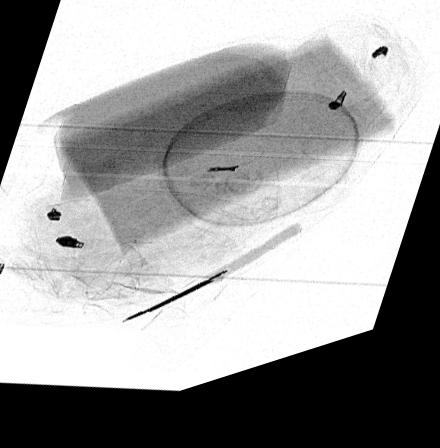Knife: (120, 241, 302, 331)
